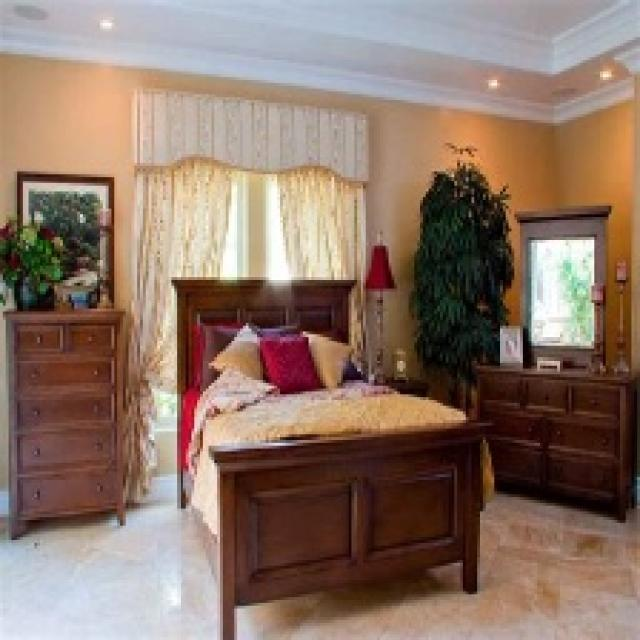Bed: (169, 274, 494, 637)
